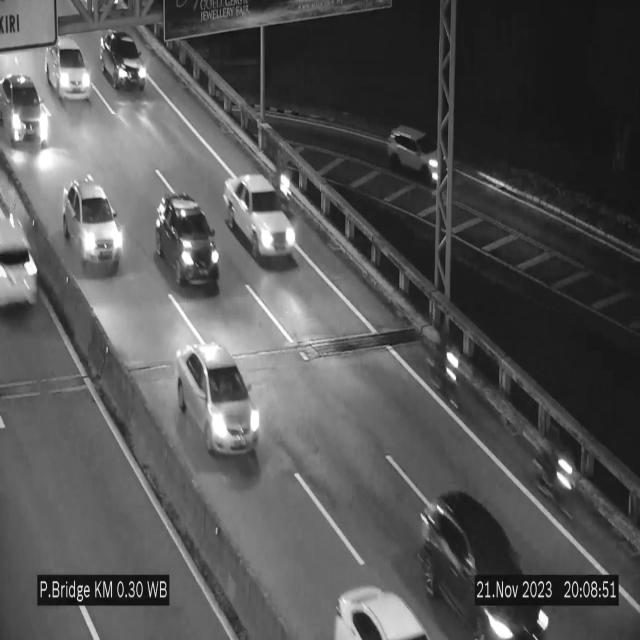Car: (413, 484, 551, 640), (177, 346, 261, 457), (224, 174, 298, 263), (328, 576, 428, 640), (154, 193, 220, 287), (386, 112, 458, 194), (64, 179, 122, 273), (0, 206, 40, 315), (94, 21, 146, 95), (0, 70, 50, 145), (45, 41, 91, 102)
Motorcycle: (534, 419, 578, 521), (428, 320, 464, 416), (272, 157, 292, 207)
